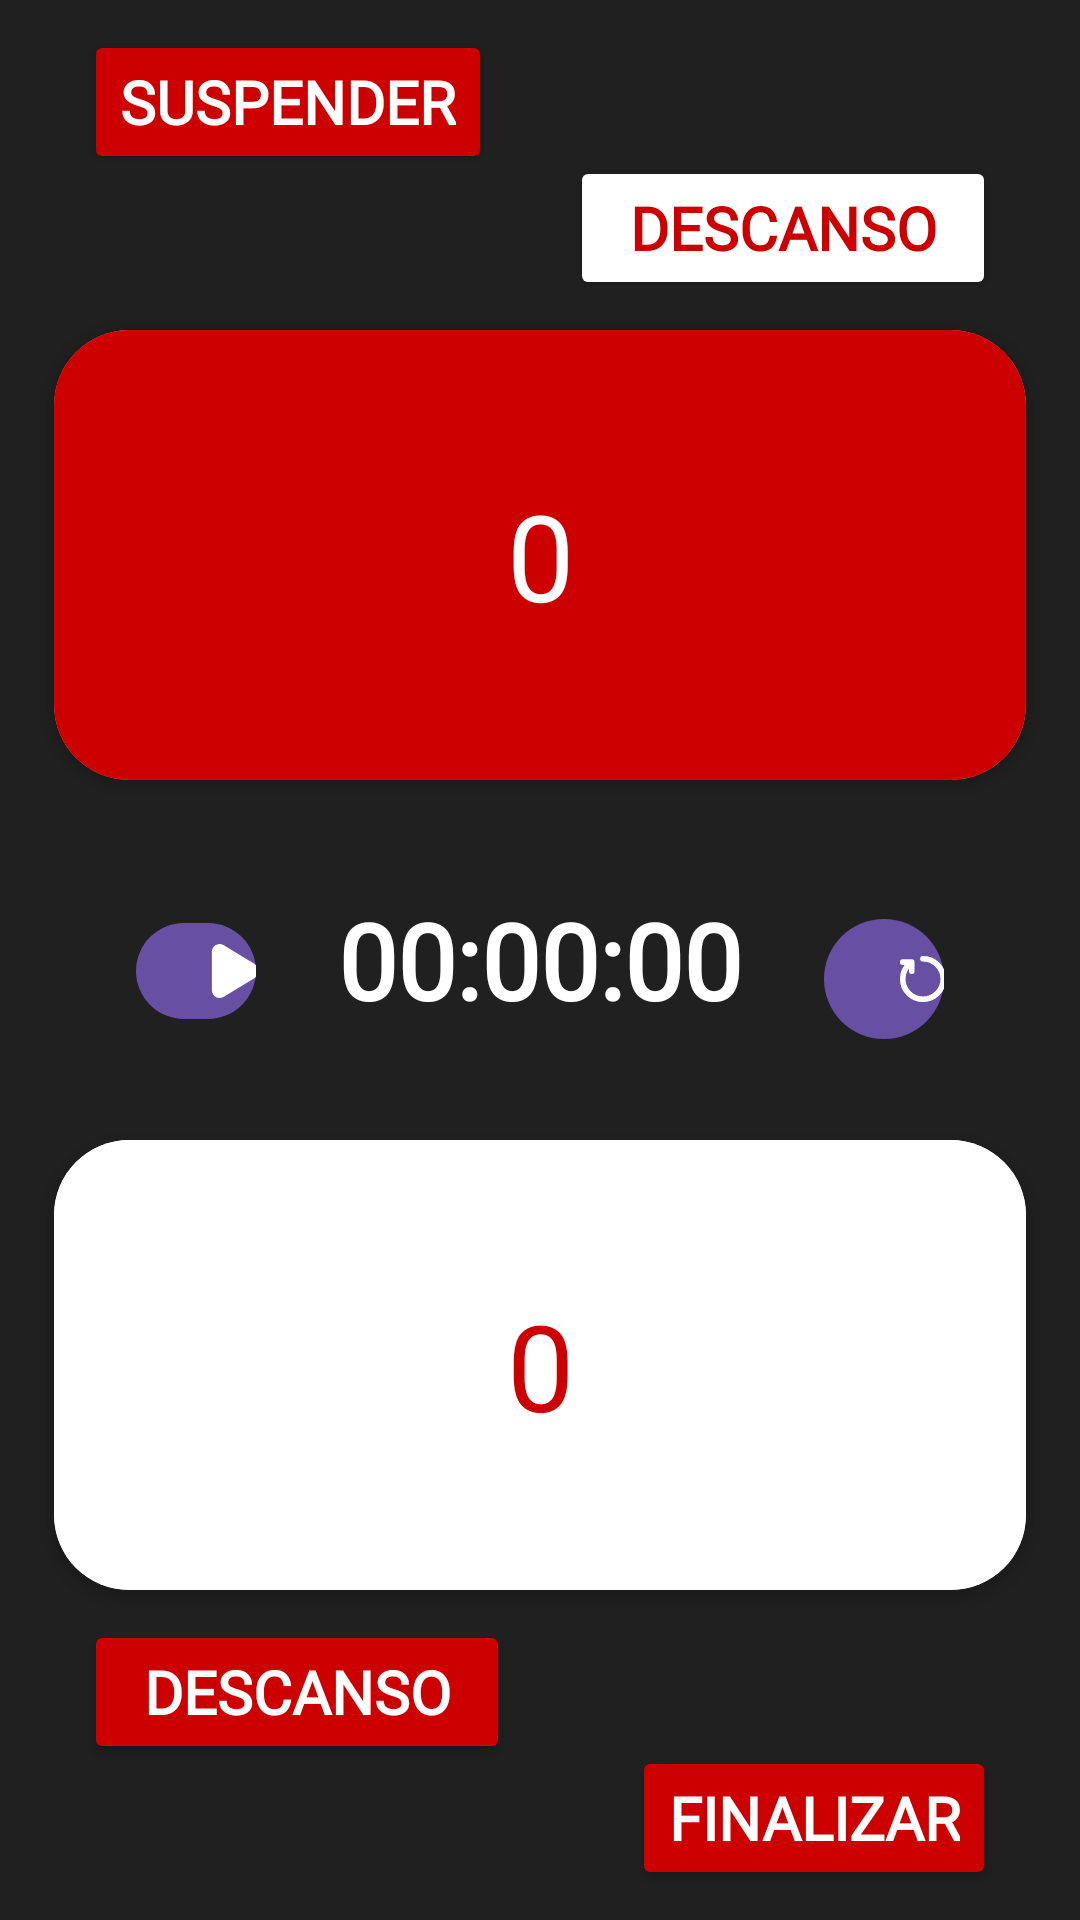

Where to tap for icons on this 1080px×1920px app screen, as (x,y):
playbutton: (196,971)
resetbutton: (884,979)
